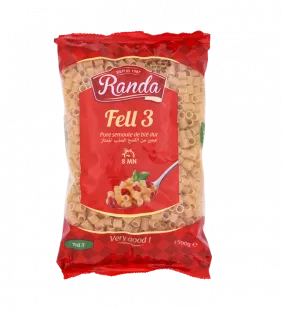RANDA: (45, 21, 220, 284)
